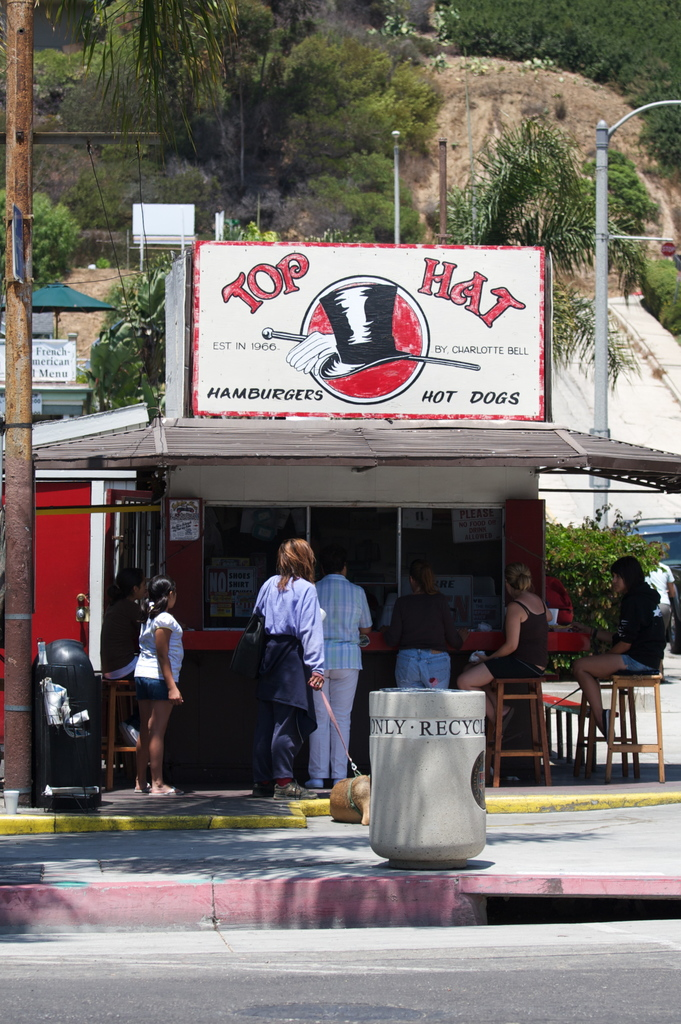Human-face: (134, 577, 152, 600), (612, 568, 624, 594), (168, 589, 178, 608)
